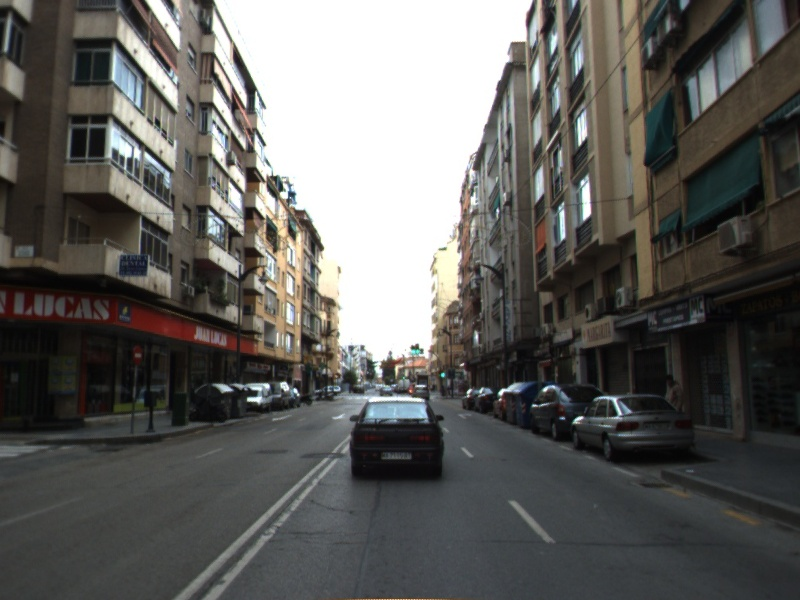RIGHT: (456, 411, 473, 420)
